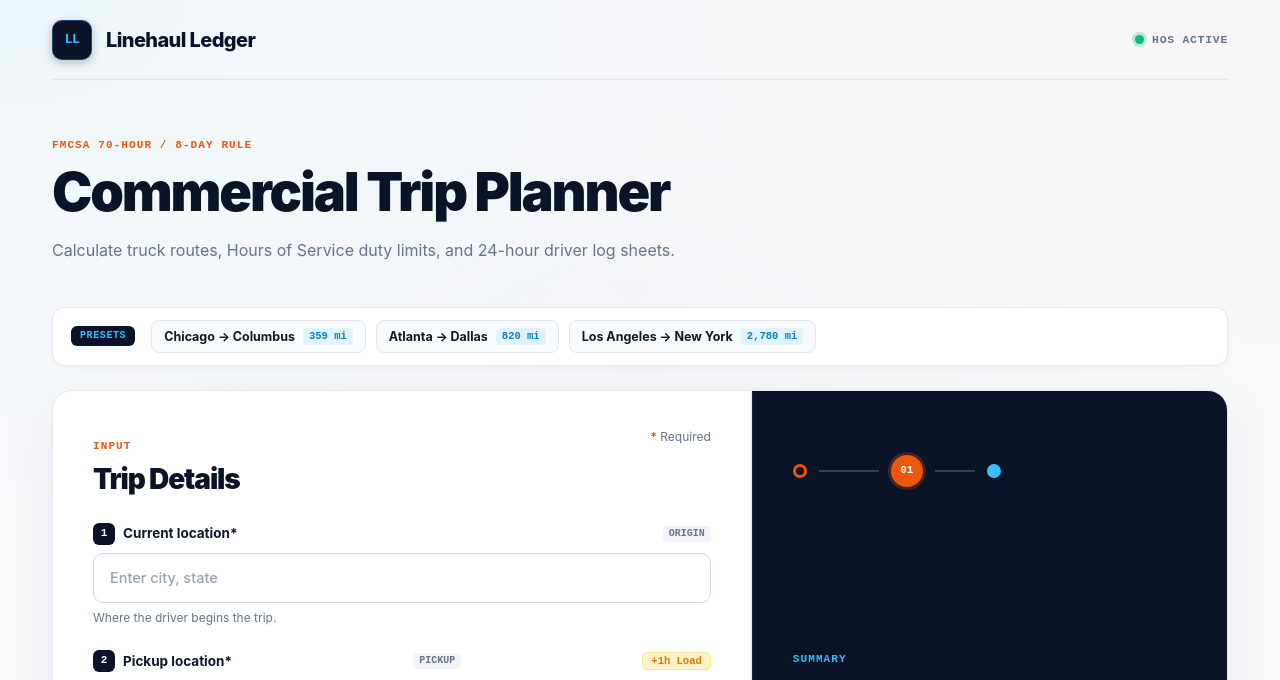
Scenario: trip planner form › shows suggestions and applies the selected location
The width and height of the screenshot is (1280, 680).
Type "Chi" into the field labelled "1 Current location *" at (402, 578), box x1=93 y1=553 x2=711 y2=603
Wait 300 ms
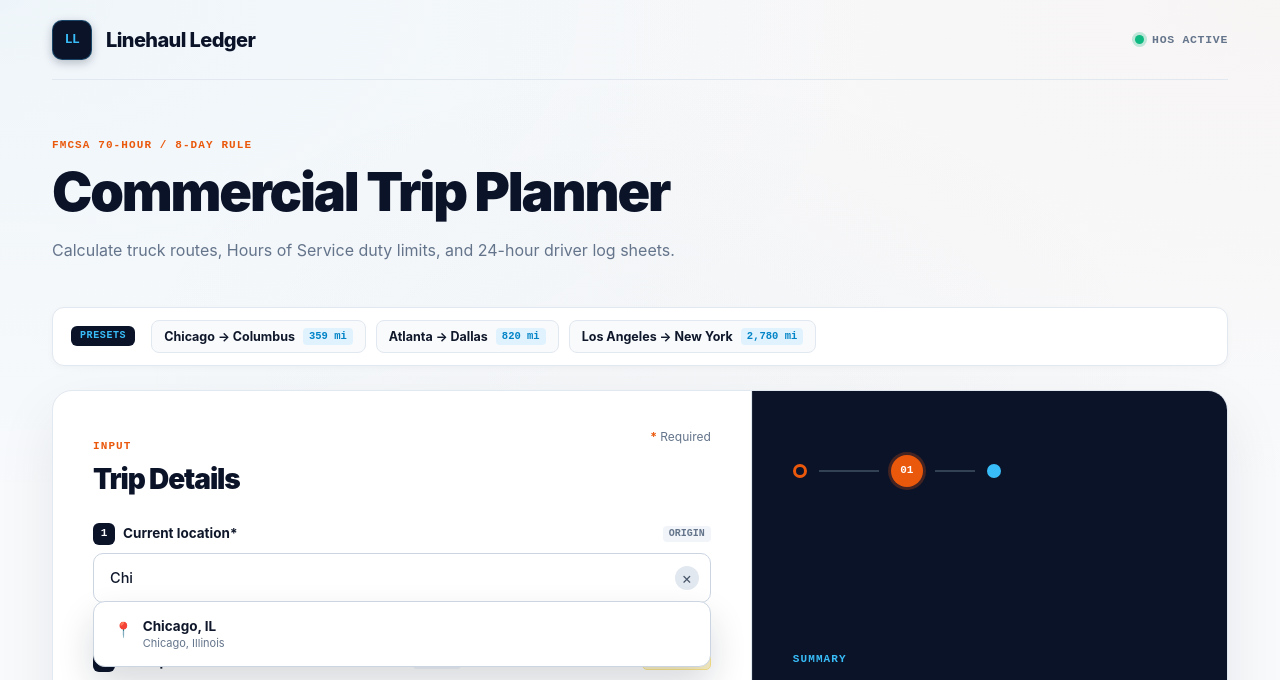
Now the button "📍 Chicago, IL Chicago, Illinois" is shown
Click the button "📍 Chicago, IL Chicago, Illinois" at (179, 626), box x1=100 y1=608 x2=704 y2=660
Wait 300 ms
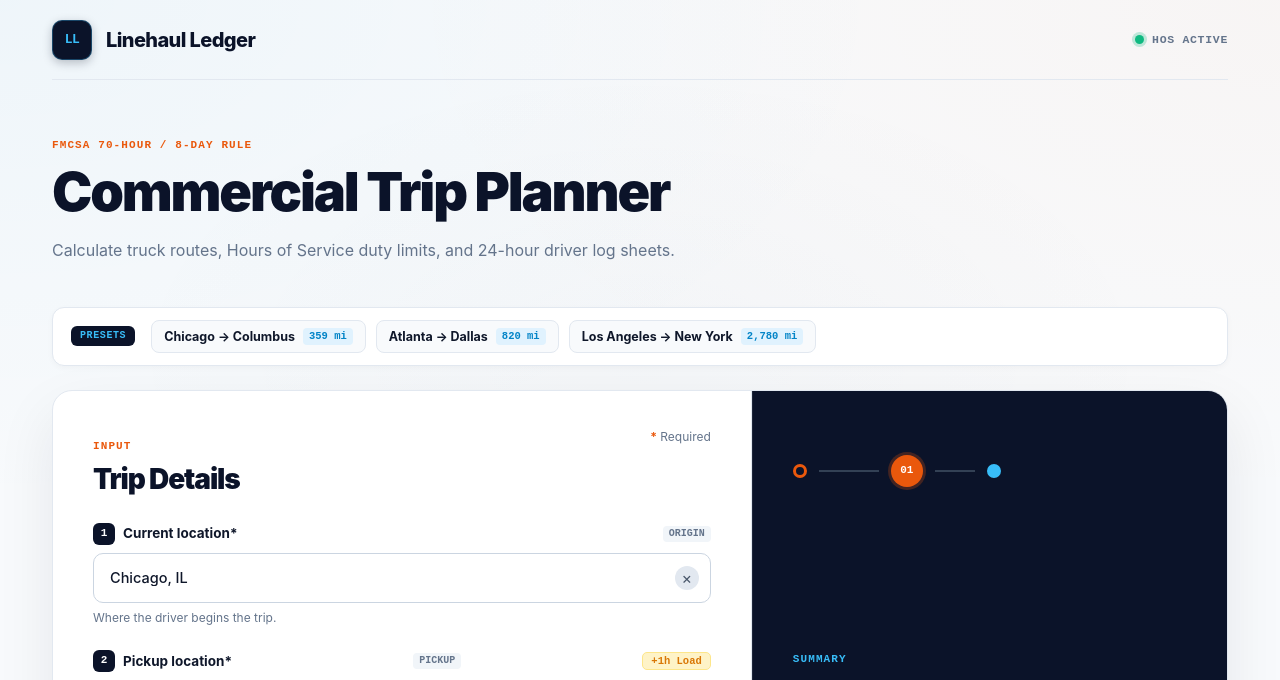
Now the field labelled "1 Current location *" holds "Chicago, IL", box x1=93 y1=553 x2=711 y2=603
Now the list "current location suggestions" is gone
